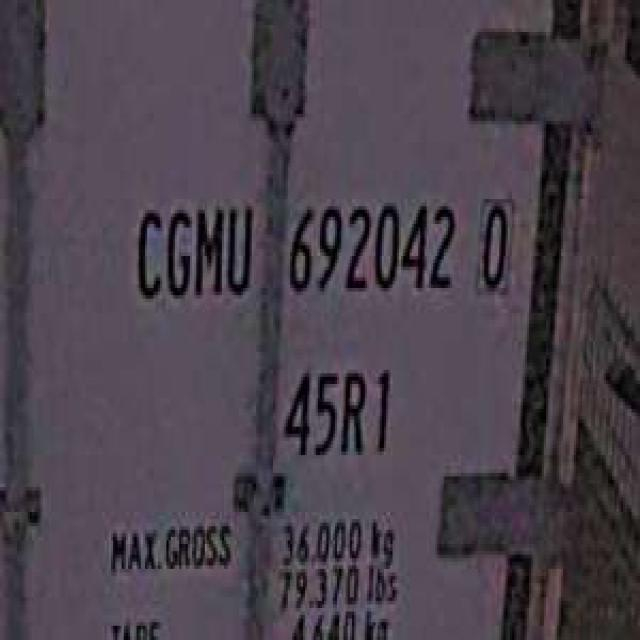dv: (469, 182, 516, 302)
owner: (128, 185, 256, 309)
serial: (282, 181, 458, 313)
size: (275, 352, 399, 469)
